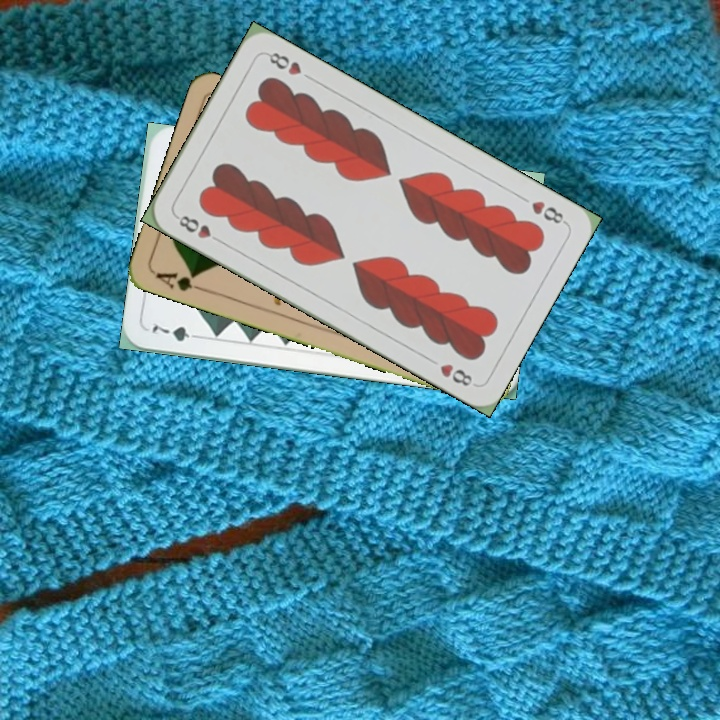G7: (148, 318, 205, 344)
GA: (151, 268, 209, 295)
H8: (171, 211, 225, 246), (527, 196, 569, 227)
